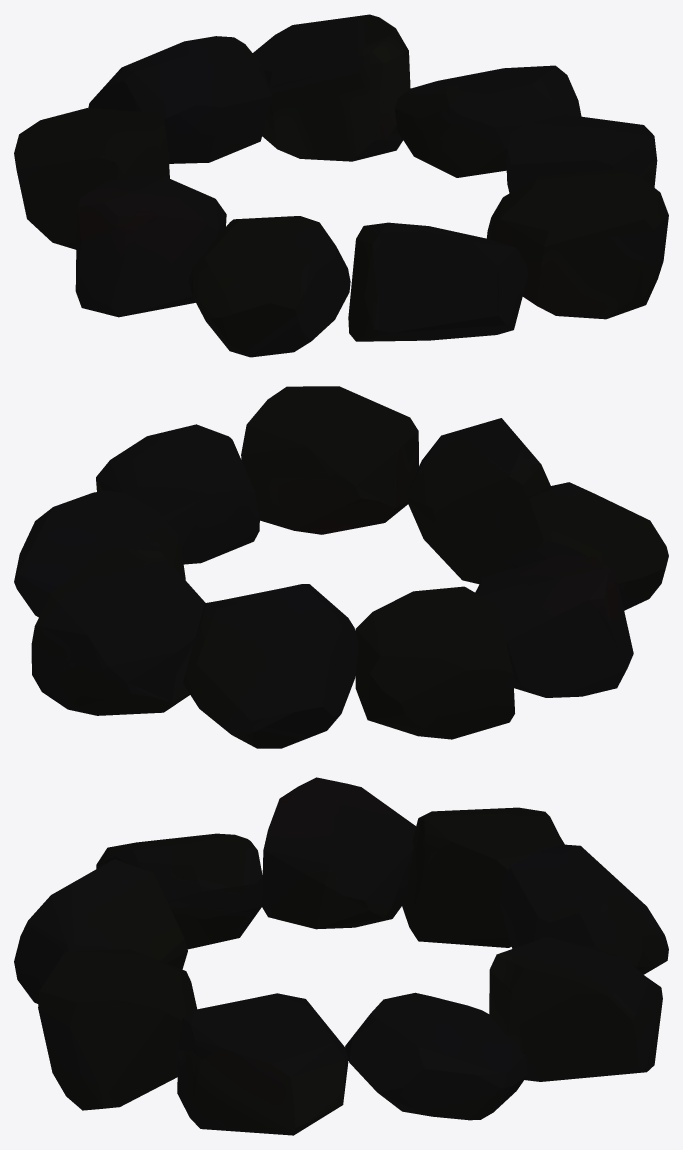
3 renders of one model, top to bottom at view 1: azimuth 30°, elevation 25°; view 2: azimuth 150°, elevation 25°; view 3: azimuth 270°, elevation 25°, orthographic.
Parts seen in each view (by area): view 1: SM_Campfire_Rocks_LOD0; view 2: SM_Campfire_Rocks_LOD0; view 3: SM_Campfire_Rocks_LOD0.
Boxes of the visible parts, left/top/right/bottom form: SM_Campfire_Rocks_LOD0: left=14, top=14, right=668, bottom=357; SM_Campfire_Rocks_LOD0: left=14, top=386, right=668, bottom=748; SM_Campfire_Rocks_LOD0: left=14, top=777, right=668, bottom=1135.
Bounding box in the file's own units: 0.968 × 0.2444 × 0.9951.
